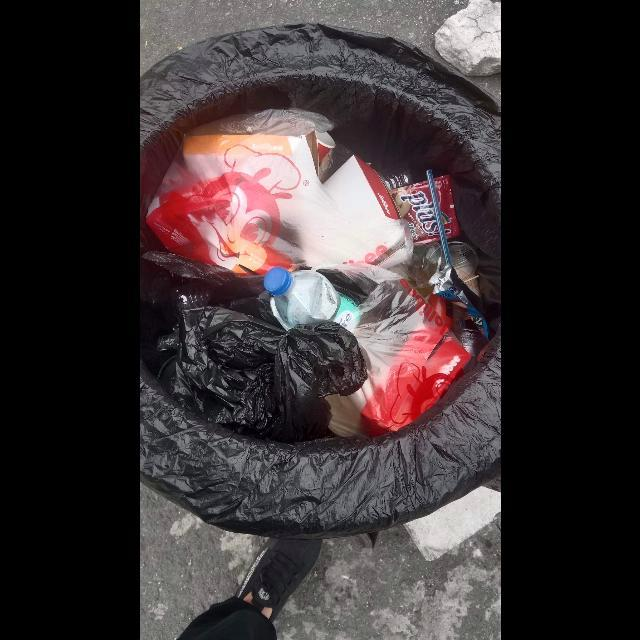cardboard: (322, 155, 401, 220)
food_wrapper: (428, 258, 489, 341), (390, 175, 460, 243)
plastic_bag: (146, 108, 413, 274), (309, 265, 474, 437), (169, 308, 366, 444)
plastic_bottle: (263, 266, 359, 325)
